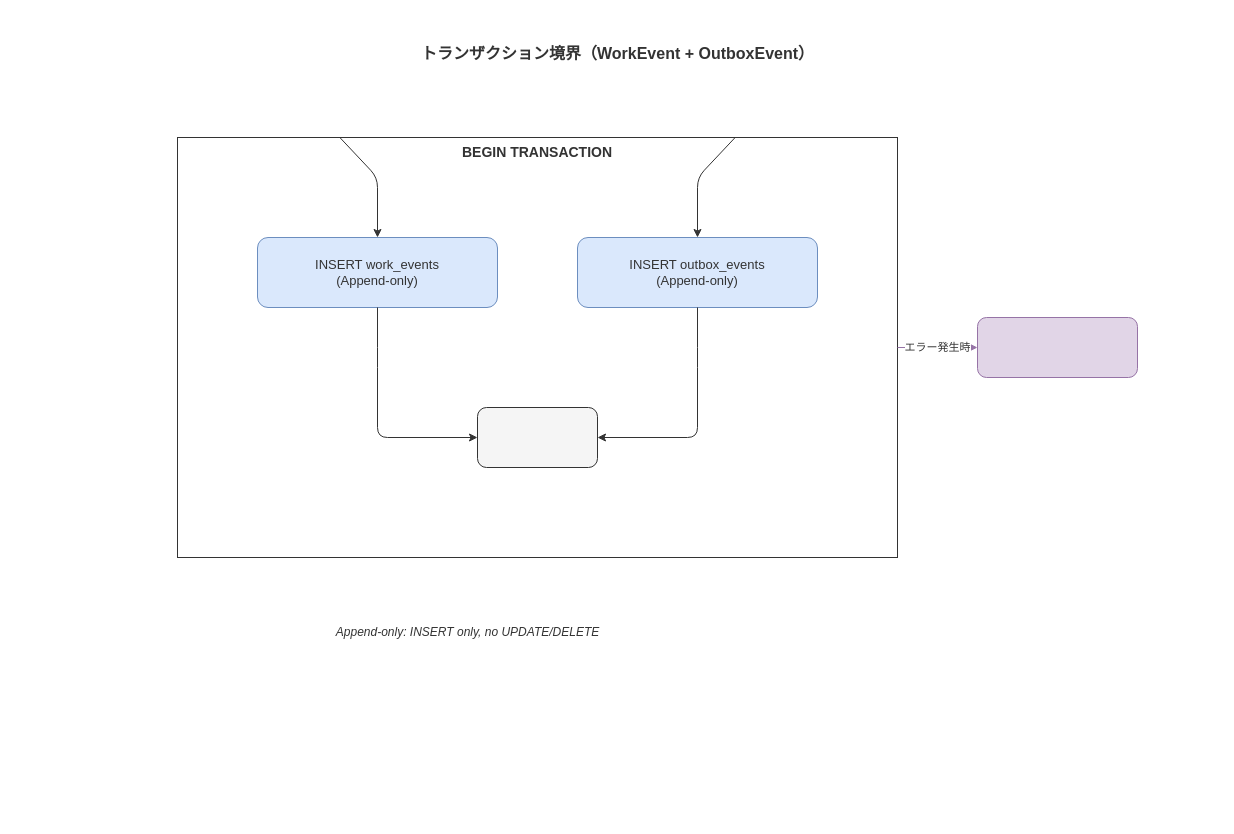
This 1234x834 diagram has some shape labels left out. Each missing label, with the centre of its shape:
"COMMIT" belongs at pixel 537 437.
"ROLLBACK" belongs at pixel 1057 347.
